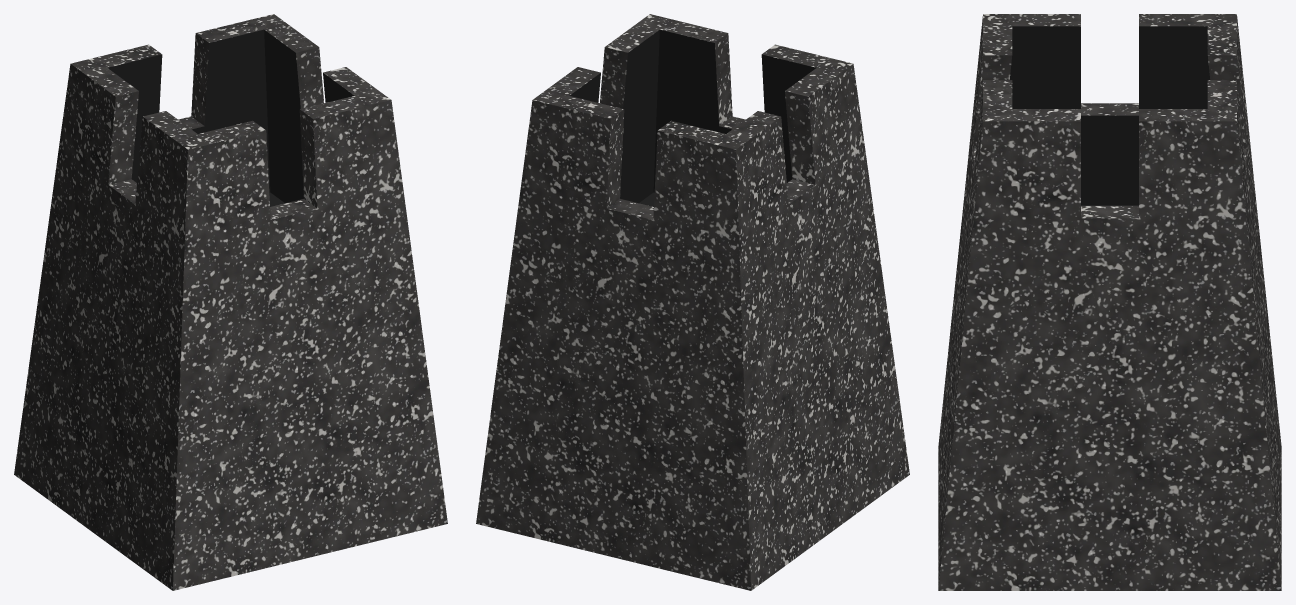
Rendered from rook-black-hd.glb.
3 views of the same model, side by side, from view 1: azimuth 30°, elevation 25°; view 2: azimuth 150°, elevation 25°; view 3: azimuth 270°, elevation 25° (orthographic). The views are drawn at different scales.
Parts seen in each view (by area): view 1: Black_Rook; view 2: Black_Rook; view 3: Black_Rook.
Part boxes in pixels (x1,y1,x2,y2): Black_Rook: [14, 14, 447, 590]; Black_Rook: [476, 14, 909, 590]; Black_Rook: [938, 14, 1281, 590].
Bounding box in the file's own units: 0.6828 × 0.99 × 0.6828.
Materials: 2 (1 with a texture image).
